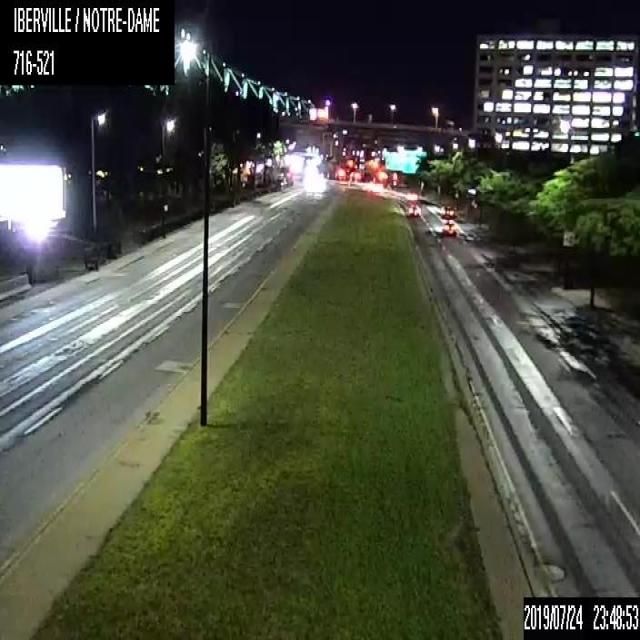vehicle: (442, 219, 456, 235), (441, 203, 454, 218), (406, 204, 421, 216)
